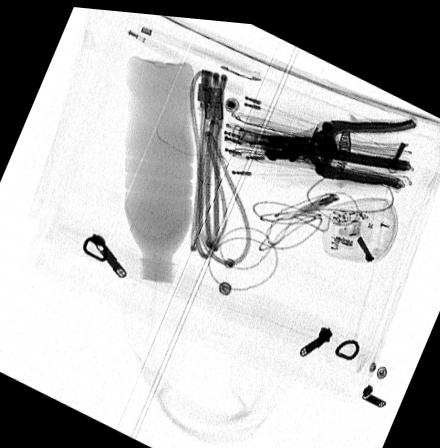Pliers: (264, 110, 418, 182)
